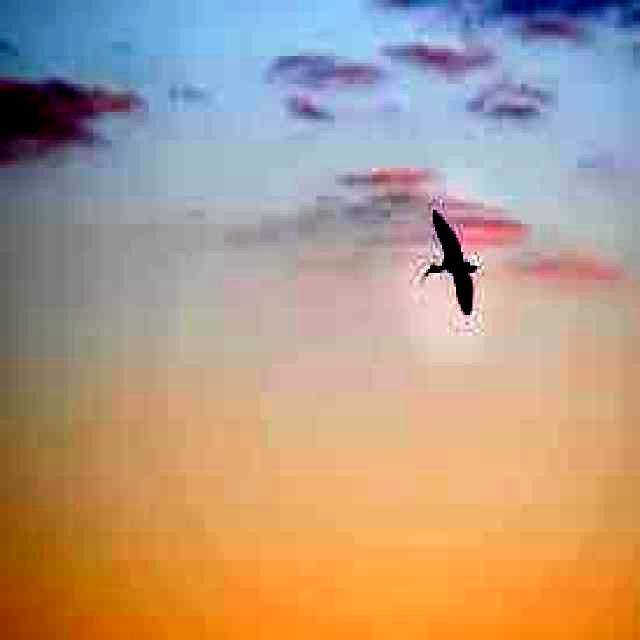bird: (419, 203, 478, 324)
